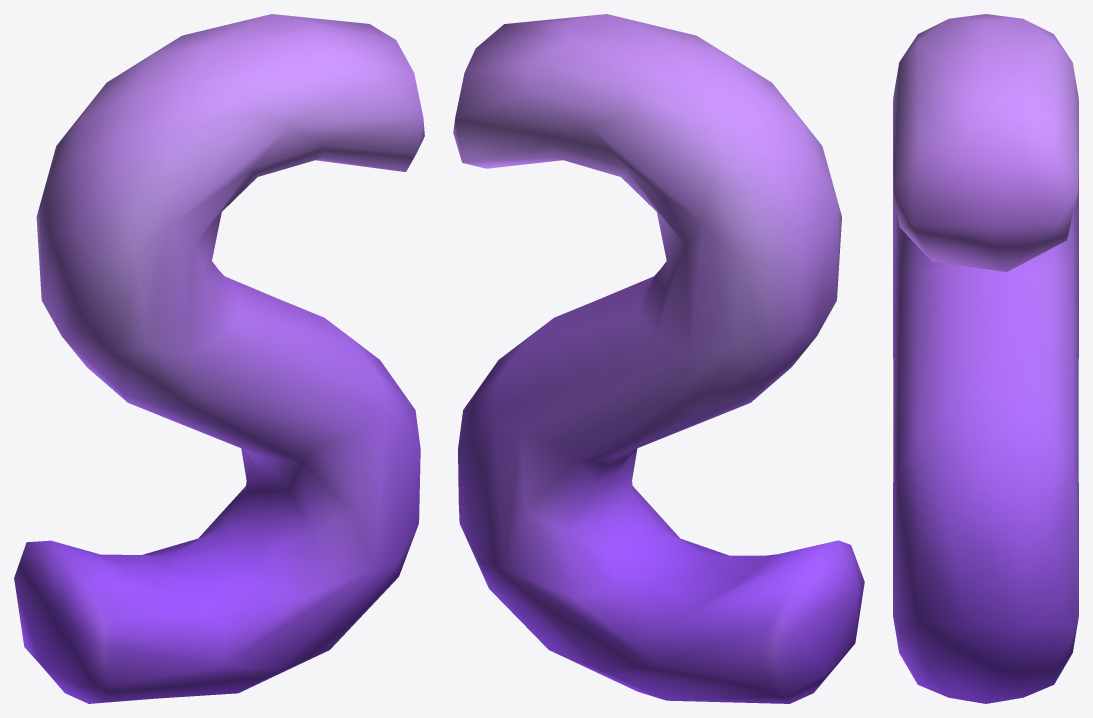
The picture shows the model from 3 angles, left to right: view 1: azimuth 30°, elevation 25°; view 2: azimuth 150°, elevation 25°; view 3: azimuth 270°, elevation 25°; orthographic projection. The views are drawn at different scales.
Visible parts, largest first — view 1: Processed_Mesh0_Geometry; view 2: Processed_Mesh0_Geometry; view 3: Processed_Mesh0_Geometry.
Boxes of the visible parts, x1=… form: Processed_Mesh0_Geometry: x1=14, y1=14, x2=424, y2=703; Processed_Mesh0_Geometry: x1=453, y1=14, x2=864, y2=703; Processed_Mesh0_Geometry: x1=893, y1=14, x2=1078, y2=703.
Size of what is drawn, in the model's own units: 0.0485 by 0.0814 by 0.0209.
Materials: 1 (1 with a texture image).
